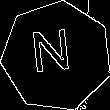N_S: (34, 29, 79, 83)
